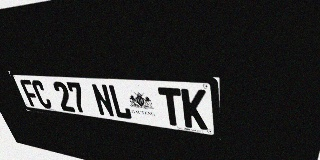2: (51, 81, 75, 112)
7: (65, 82, 89, 114)
C: (30, 80, 53, 109)
F: (19, 79, 42, 108)
K: (181, 88, 208, 130)
L: (107, 84, 133, 120)
N: (90, 83, 115, 118)
T: (158, 87, 184, 127)
